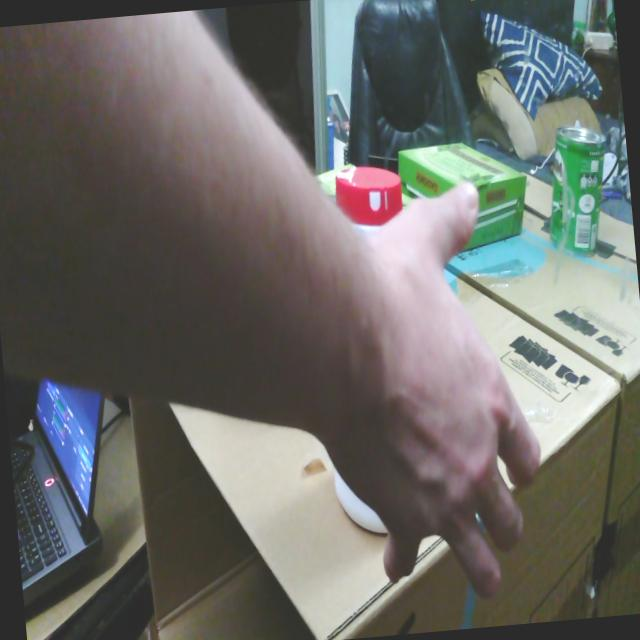twinings_greentea_box: (316, 163, 354, 201)
woolworths_salt_bottle: (336, 166, 402, 233), (333, 466, 387, 533)
